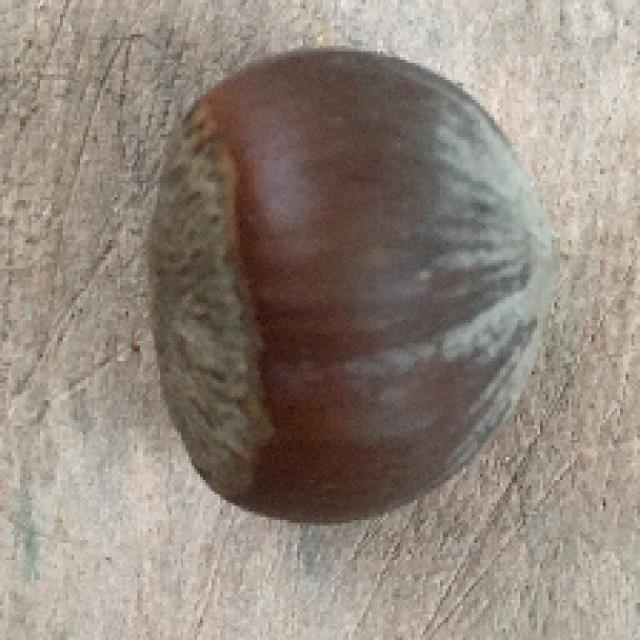damagedHazelnut: (146, 43, 548, 529)
